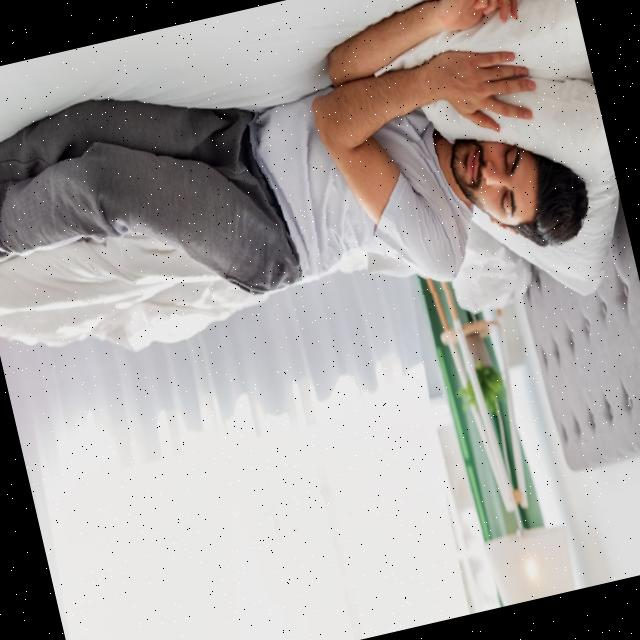people: (0, 0, 618, 402)
